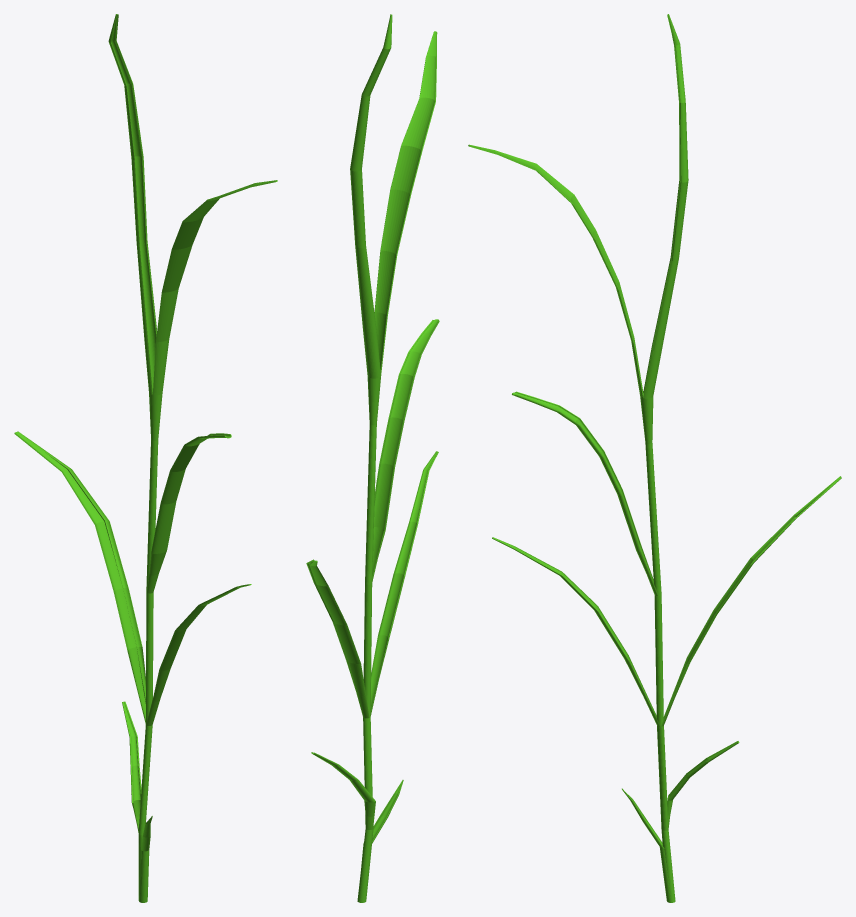
Rendered from barley2.fbx.
3 views of the same model, side by side, from view 1: azimuth 30°, elevation 25°; view 2: azimuth 150°, elevation 25°; view 3: azimuth 270°, elevation 25° (orthographic). The views are drawn at different scales.
Visible parts, largest first — view 1: barley stage 2; view 2: barley stage 2; view 3: barley stage 2.
Part boxes in pixels (x1,y1,x2,y2): barley stage 2: (14,14,277,902); barley stage 2: (306,14,439,902); barley stage 2: (468,14,841,902).
Bounding box in the file's own units: 7.18 × 83.32 × 32.3.
